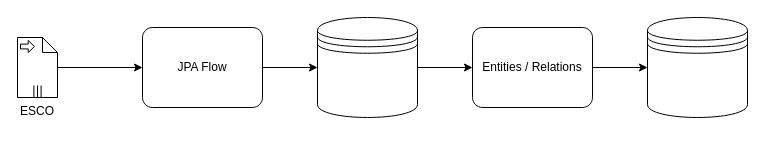
Some shapes in this 765 by 156 pixel diagram are drawn without their labels. The centre of each missing label's shape, as x and y in pixels:
Neo4J: (697,67)
RDBMS: (367,67)
